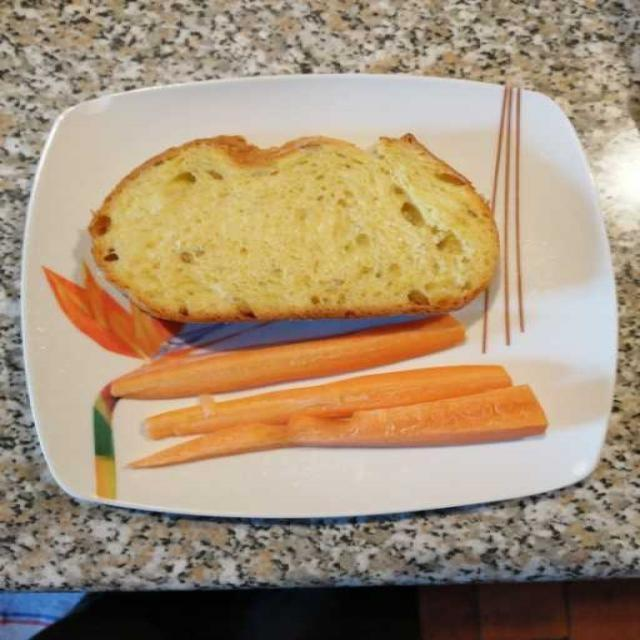carrot: (113, 319, 540, 458)
